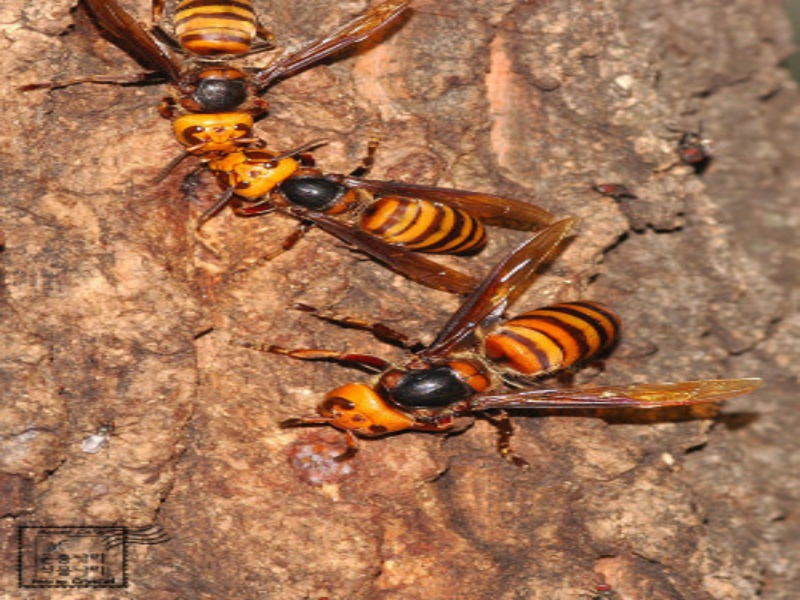asian_giant_hornet: (264, 226, 757, 477), (37, 2, 403, 192), (200, 135, 571, 297)
